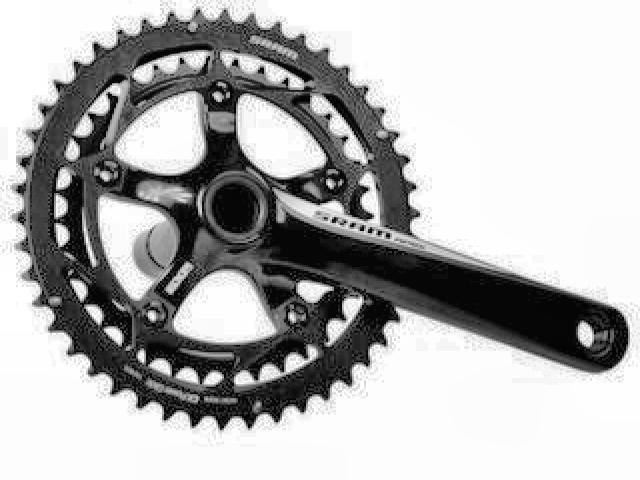cranks_set: (9, 7, 629, 430)
